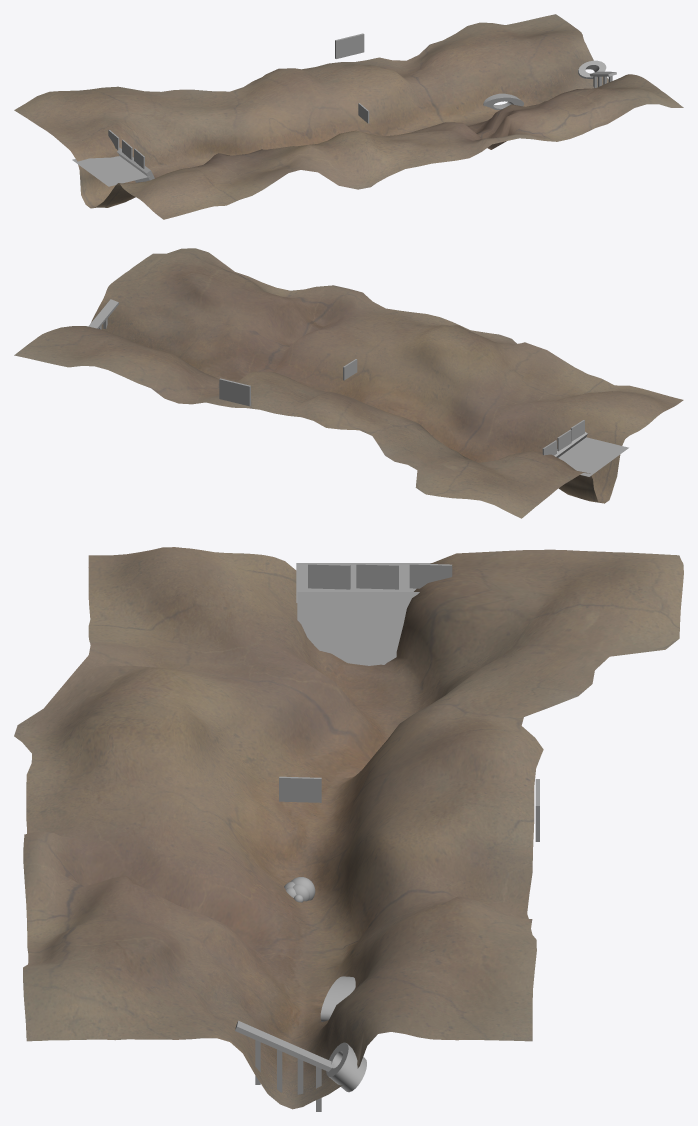
File: DesertMap_scenery.fbx
3 views of the same model, one above another, from view 1: azimuth 30°, elevation 25°; view 2: azimuth 150°, elevation 25°; view 3: azimuth 270°, elevation 25° (orthographic). The views are drawn at different scales.
Visible parts, largest first — view 1: floor, pPlane1, pCube7, pPipe2, pPipe1; view 2: floor, pPlane1, pCube7; view 3: floor, pCube6, pPlane1, pPipe1, pCube1, pCube8, pCube9, pCube10, pCube11.
Part boxes in pixels (bbox=[...]): floor: bbox=[14, 14, 683, 219]; pPlane1: bbox=[72, 156, 149, 186]; pCube7: bbox=[335, 33, 364, 58]; pPipe2: bbox=[483, 93, 523, 110]; pPipe1: bbox=[578, 60, 606, 78]; floor: bbox=[14, 248, 683, 518]; pPlane1: bbox=[558, 437, 628, 476]; pCube7: bbox=[219, 378, 250, 406]; floor: bbox=[14, 547, 683, 1109]; pCube6: bbox=[297, 592, 419, 665]; pPlane1: bbox=[296, 563, 431, 602]; pPipe1: bbox=[326, 1042, 366, 1092]; pCube1: bbox=[235, 1020, 334, 1071]; pCube8: bbox=[279, 776, 321, 802]; pCube9: bbox=[356, 563, 398, 589]; pCube10: bbox=[308, 563, 350, 589]; pCube11: bbox=[409, 563, 452, 588].
Bounding box in the file's own units: 3322 × 427 × 1921.
2 materials, 1 textured.
